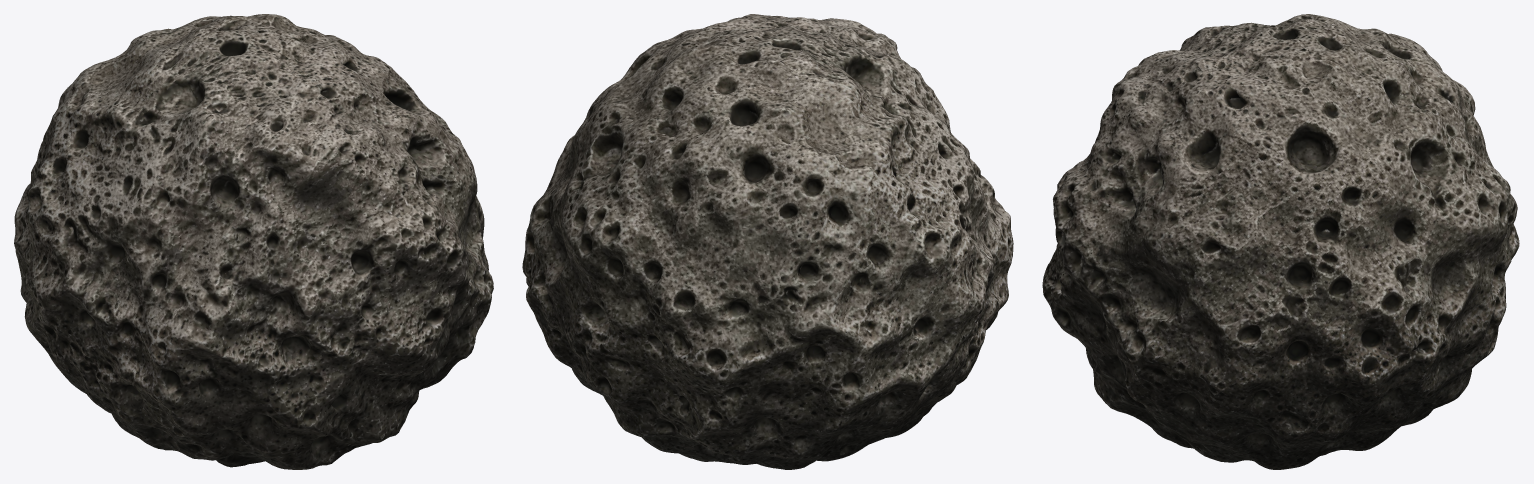
Rendered from stone_round.glb.
3 renders of one model, left to right at view 1: azimuth 30°, elevation 25°; view 2: azimuth 150°, elevation 25°; view 3: azimuth 270°, elevation 25°, orthographic. The views are drawn at different scales.
Visible parts, largest first — view 1: tripo_node_b9d7223b; view 2: tripo_node_b9d7223b; view 3: tripo_node_b9d7223b.
Boxes of the visible parts, x1=… form: tripo_node_b9d7223b: x1=14, y1=14, x2=493, y2=469; tripo_node_b9d7223b: x1=522, y1=14, x2=1013, y2=469; tripo_node_b9d7223b: x1=1042, y1=14, x2=1519, y2=469.
Bounding box in the file's own units: 97.68 × 90.14 × 97.07.
1 material, 1 textured.
